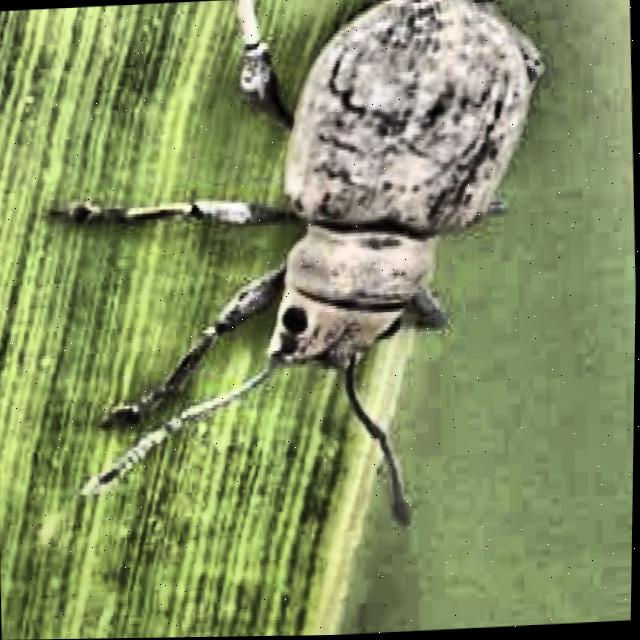Stink bug: (126, 0, 599, 503)
